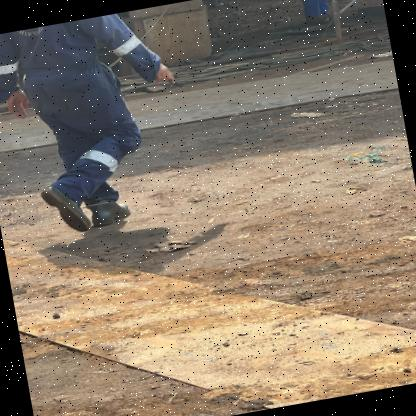bota: (24, 170, 100, 242), (76, 182, 144, 231)
